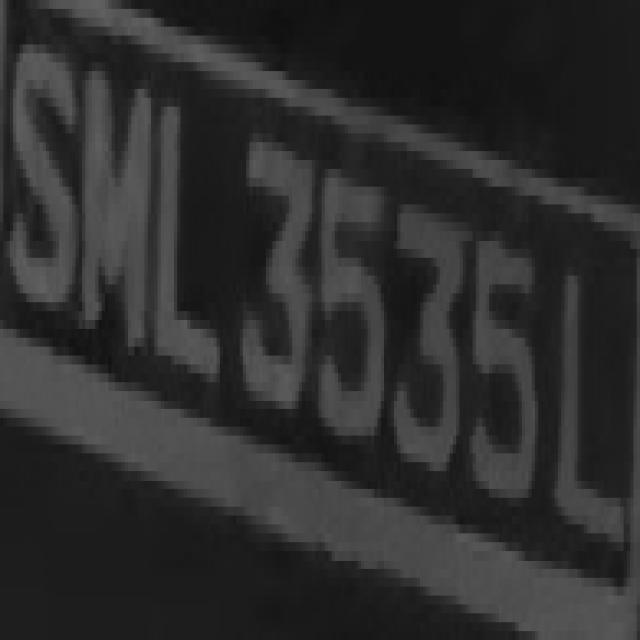3: (390, 142, 476, 542), (243, 107, 312, 453)
5: (462, 124, 542, 560), (318, 107, 388, 480)
L: (148, 71, 236, 436), (558, 231, 627, 578)
M: (78, 27, 148, 382)
S: (10, 26, 72, 338)
